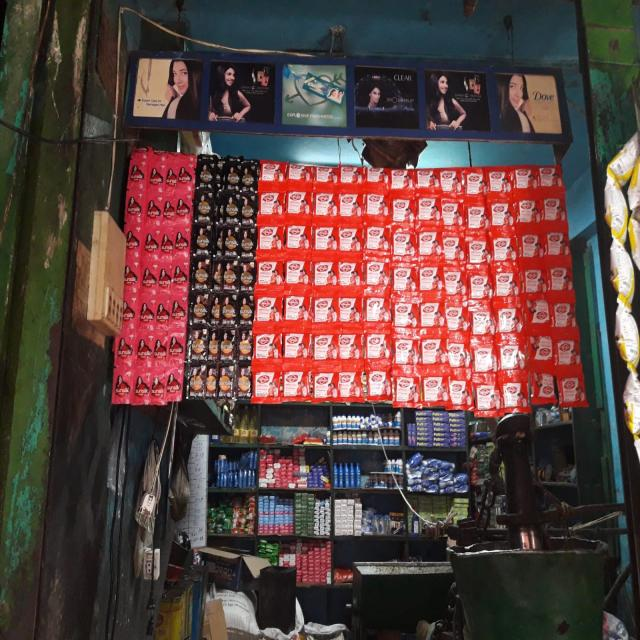ubl: (259, 232, 309, 262), (252, 267, 294, 302), (494, 331, 529, 369), (389, 292, 422, 324), (215, 191, 243, 226), (467, 306, 496, 339), (539, 161, 566, 196), (388, 262, 419, 292), (229, 225, 258, 257), (523, 296, 553, 326), (215, 326, 240, 361), (463, 202, 491, 233), (184, 361, 210, 394), (463, 236, 491, 266), (364, 331, 391, 362), (338, 371, 364, 403), (448, 375, 474, 407), (414, 194, 443, 222), (444, 339, 471, 369), (190, 226, 217, 256), (186, 326, 208, 362), (491, 233, 518, 262), (494, 268, 520, 298), (437, 168, 465, 195), (542, 231, 570, 258), (419, 336, 445, 365), (360, 192, 389, 218), (468, 270, 493, 300), (363, 296, 390, 323), (388, 198, 415, 225), (559, 376, 585, 404), (554, 338, 580, 366), (521, 266, 547, 294), (439, 200, 465, 228), (256, 225, 284, 251), (362, 260, 390, 286), (442, 305, 467, 334), (530, 334, 554, 364), (475, 383, 501, 410), (313, 226, 340, 252), (440, 234, 466, 261), (254, 333, 279, 361), (283, 332, 308, 360), (393, 338, 418, 366), (362, 226, 390, 251), (142, 225, 162, 260), (392, 163, 416, 192), (254, 297, 281, 322), (193, 172, 218, 199), (282, 370, 306, 398), (366, 371, 390, 399), (394, 376, 418, 404), (284, 191, 312, 215), (533, 370, 556, 399), (259, 162, 288, 185), (236, 193, 258, 223), (334, 296, 359, 322), (516, 199, 541, 225), (285, 225, 311, 250), (487, 169, 512, 195), (313, 192, 339, 217), (336, 334, 360, 361), (496, 307, 520, 334), (422, 376, 446, 403), (339, 164, 366, 188), (473, 346, 496, 374), (515, 166, 538, 194), (283, 296, 308, 321), (418, 302, 442, 328), (256, 260, 280, 286), (418, 266, 442, 292), (488, 202, 512, 228), (312, 261, 338, 285), (540, 198, 566, 222), (193, 201, 215, 229), (165, 366, 182, 402), (258, 192, 283, 216), (552, 302, 575, 328), (289, 160, 311, 187), (135, 332, 154, 363), (235, 295, 255, 324), (519, 233, 543, 257), (416, 230, 439, 255), (548, 265, 571, 290), (219, 296, 238, 326), (253, 371, 275, 396), (190, 265, 212, 290), (237, 330, 254, 362), (238, 262, 257, 290), (143, 194, 161, 223), (503, 382, 523, 408), (236, 370, 253, 400), (130, 158, 146, 188), (238, 163, 256, 189), (218, 367, 233, 398), (369, 165, 390, 187), (122, 290, 135, 324), (127, 193, 141, 224), (176, 164, 192, 189), (315, 167, 336, 186), (222, 163, 239, 186), (418, 171, 438, 190), (134, 375, 150, 397), (126, 230, 139, 257), (164, 163, 176, 189), (117, 338, 133, 357), (171, 300, 186, 320), (115, 376, 130, 396), (162, 229, 171, 262), (151, 376, 165, 396), (173, 266, 188, 284), (142, 268, 157, 286), (140, 304, 154, 323), (169, 337, 183, 356), (158, 269, 172, 288), (156, 304, 170, 323), (174, 232, 188, 250), (154, 339, 166, 359), (149, 168, 163, 185), (124, 266, 137, 284), (177, 199, 190, 216), (194, 304, 206, 318)
